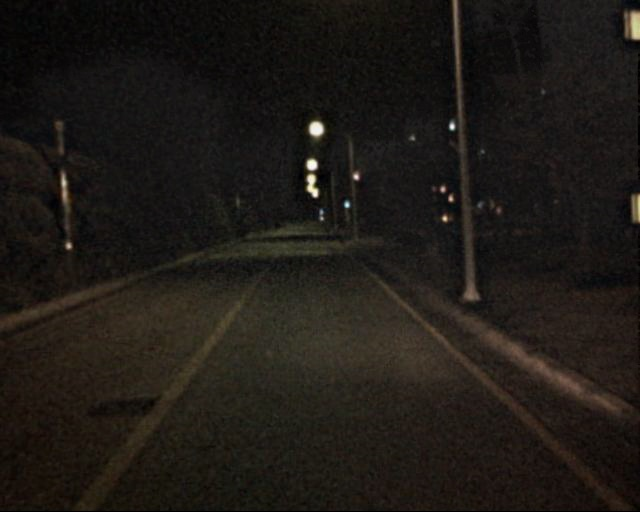person: (432, 211, 453, 262), (422, 217, 440, 260)
